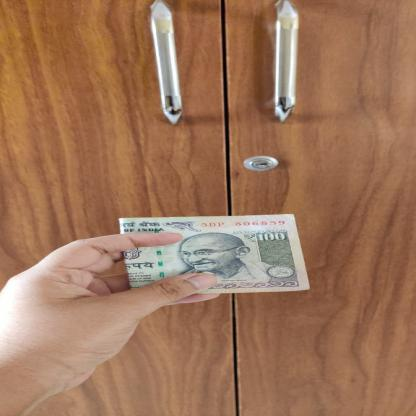Old100Front: (119, 213, 311, 294)
